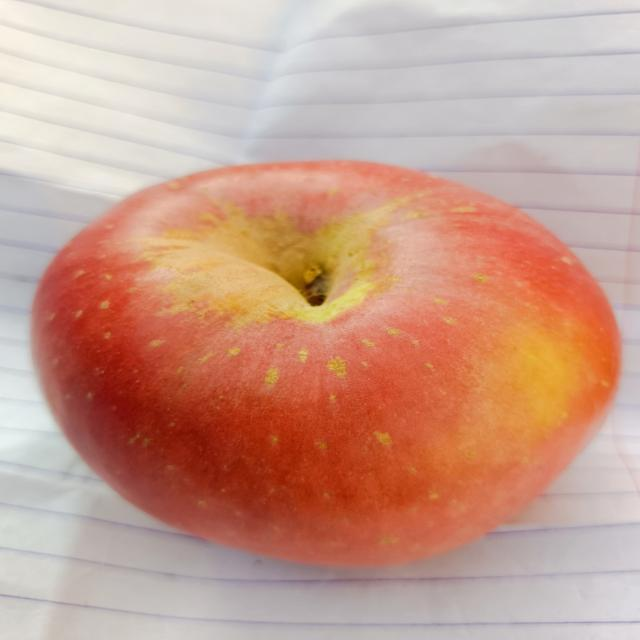Fresh Apple: (37, 178, 613, 558)
